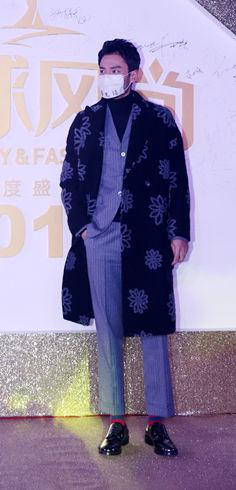OK: (96, 62, 131, 97)
